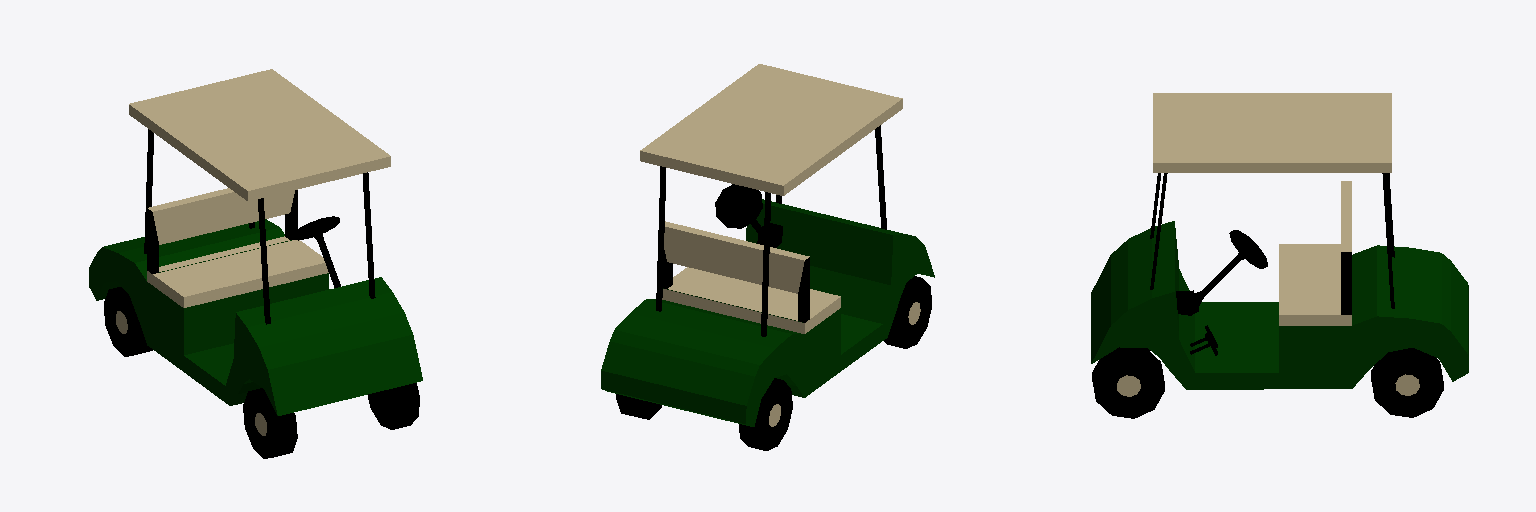
3 views of the same model, side by side, from view 1: azimuth 30°, elevation 25°; view 2: azimuth 150°, elevation 25°; view 3: azimuth 270°, elevation 25° (orthographic).
Parts seen in each view (by area): view 1: Cube.012_Mesh.001, Cube.005_Cube.008, Cylinder.002_Cylinder.005, Cylinder.003_Cylinder.005, Cylinder.004_Cylinder.005, Cube.007_Cube.010, Cube.006_Cube.009, Cube.009_Cube.012, Cylinder; view 2: Cube.012_Mesh.001, Cube.005_Cube.008, Cylinder.003_Cylinder.005, Cylinder.002_Cylinder.005, Cylinder, Cube.008_Cube.011, Cube.009_Cube.012, Cylinder.001, Cube.007_Cube.010; view 3: Cube.012_Mesh.001, Cube.005_Cube.008, Cylinder.004_Cylinder.005, Cylinder.001, Cylinder.
Part boxes in pixels (left/top/right/bottom): Cube.012_Mesh.001: left=89, top=188, right=422, bottom=415; Cube.005_Cube.008: left=129, top=69, right=390, bottom=200; Cylinder.002_Cylinder.005: left=243, top=388, right=297, bottom=458; Cylinder.003_Cylinder.005: left=104, top=287, right=152, bottom=356; Cylinder.004_Cylinder.005: left=368, top=383, right=419, bottom=429; Cube.007_Cube.010: left=258, top=198, right=270, bottom=324; Cube.006_Cube.009: left=363, top=172, right=375, bottom=298; Cube.009_Cube.012: left=144, top=129, right=153, bottom=253; Cylinder: left=292, top=216, right=339, bottom=240; Cube.012_Mesh.001: left=601, top=199, right=934, bottom=426; Cube.005_Cube.008: left=640, top=64, right=902, bottom=195; Cylinder.003_Cylinder.005: left=739, top=378, right=792, bottom=450; Cylinder.002_Cylinder.005: left=884, top=276, right=931, bottom=348; Cylinder: left=715, top=184, right=762, bottom=228; Cube.008_Cube.011: left=656, top=166, right=665, bottom=311; Cube.009_Cube.012: left=761, top=192, right=770, bottom=336; Cylinder.001: left=616, top=394, right=661, bottom=419; Cube.007_Cube.010: left=875, top=125, right=886, bottom=229; Cube.012_Mesh.001: left=1091, top=181, right=1468, bottom=389; Cube.005_Cube.008: left=1153, top=93, right=1391, bottom=172; Cylinder.004_Cylinder.005: left=1092, top=347, right=1164, bottom=418; Cylinder.001: left=1371, top=348, right=1443, bottom=417; Cylinder: left=1229, top=230, right=1267, bottom=268.
Size of the model in its own units: 8.06 by 13.6 by 18.16.
3 materials, 3 textured.